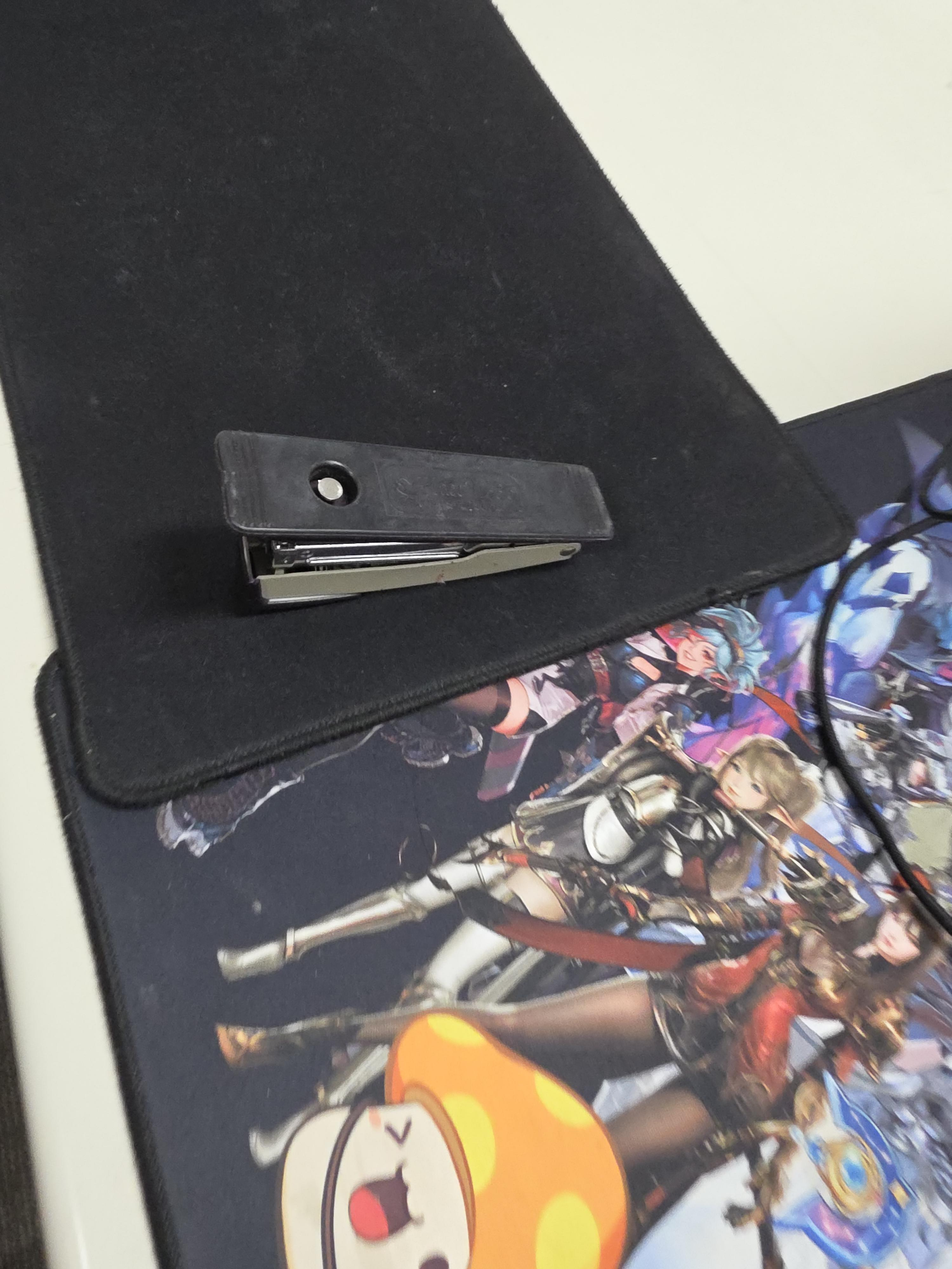stapler: (215, 428, 615, 609)
